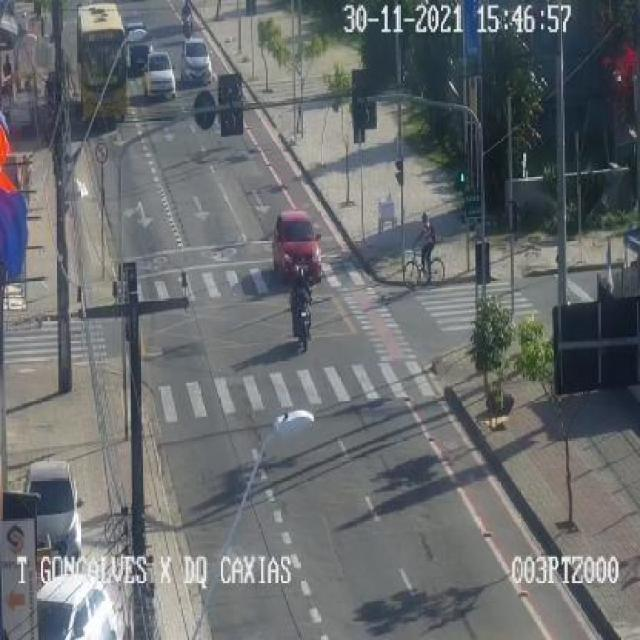Bus: (74, 0, 126, 124)
Car: (19, 457, 84, 562), (36, 567, 119, 640), (270, 210, 324, 280), (142, 50, 177, 100), (181, 39, 213, 86), (123, 20, 152, 68)
Cycle: (402, 240, 448, 290), (289, 294, 316, 352), (179, 10, 193, 38)
